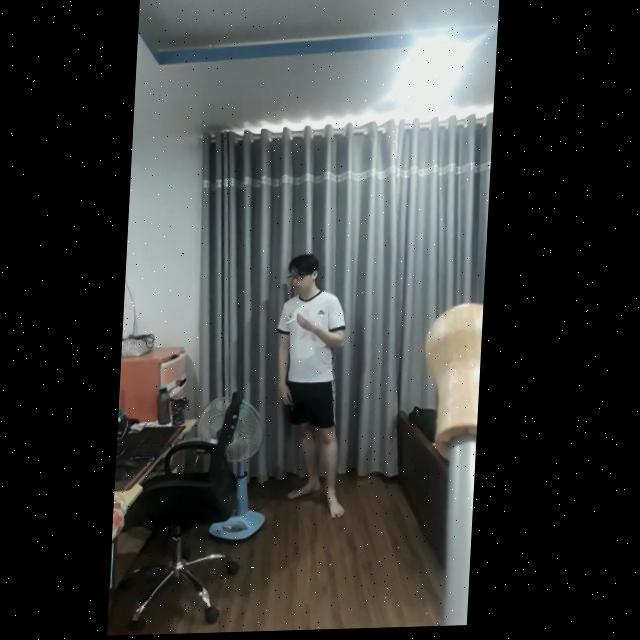cigarette: (289, 319, 300, 326)
